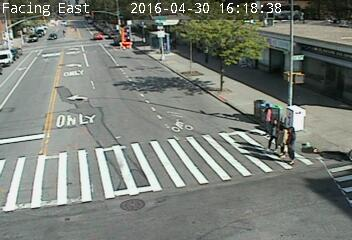neg: (7, 48, 25, 73), (184, 46, 199, 66), (38, 122, 53, 142), (209, 52, 224, 71), (146, 35, 159, 53), (54, 54, 67, 70), (91, 79, 103, 95), (135, 90, 147, 106), (39, 29, 50, 44), (246, 57, 256, 70), (175, 122, 182, 132)
pos: (276, 125, 305, 165), (270, 122, 295, 154), (261, 119, 284, 149), (256, 99, 278, 127)
